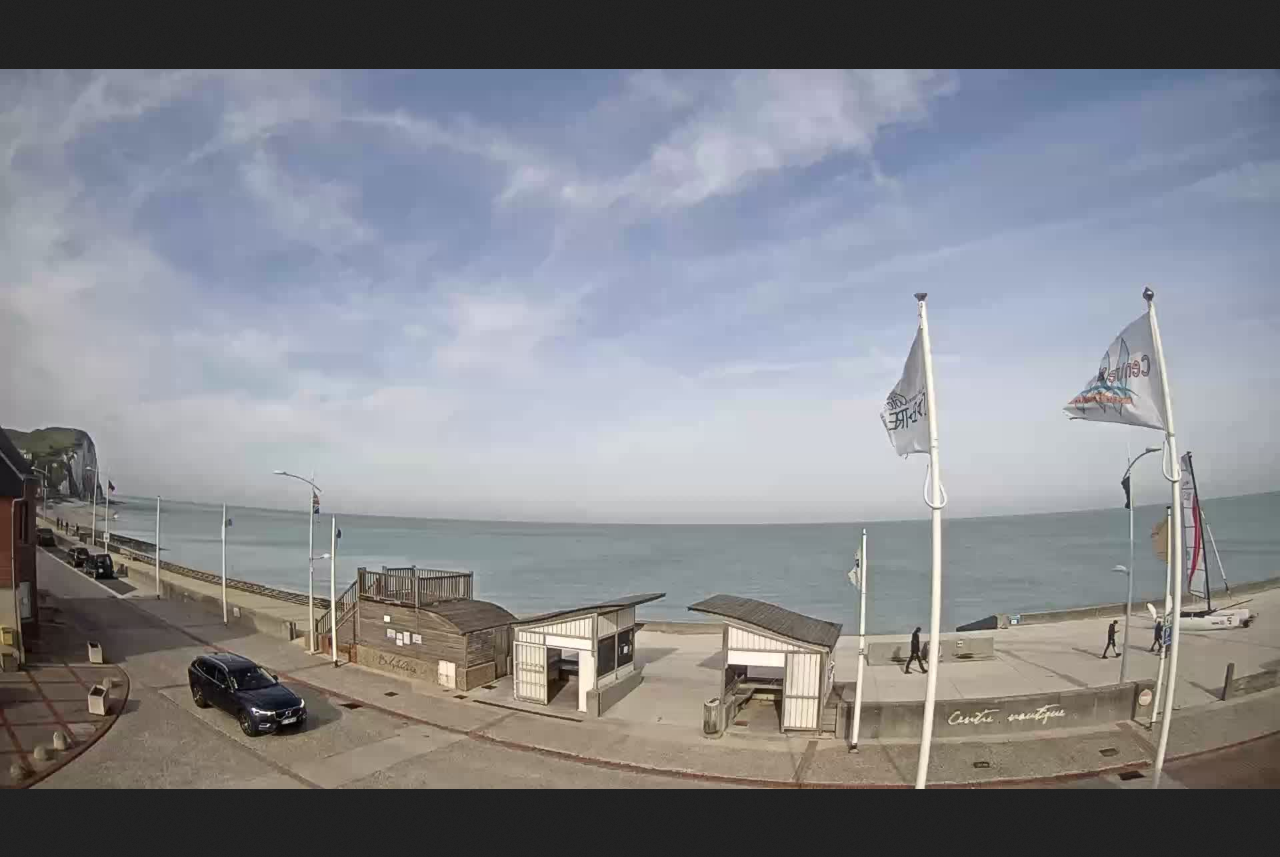maybe: (1151, 517, 1168, 560), (848, 545, 861, 589)
yes: (1061, 312, 1174, 430), (877, 329, 935, 457)
